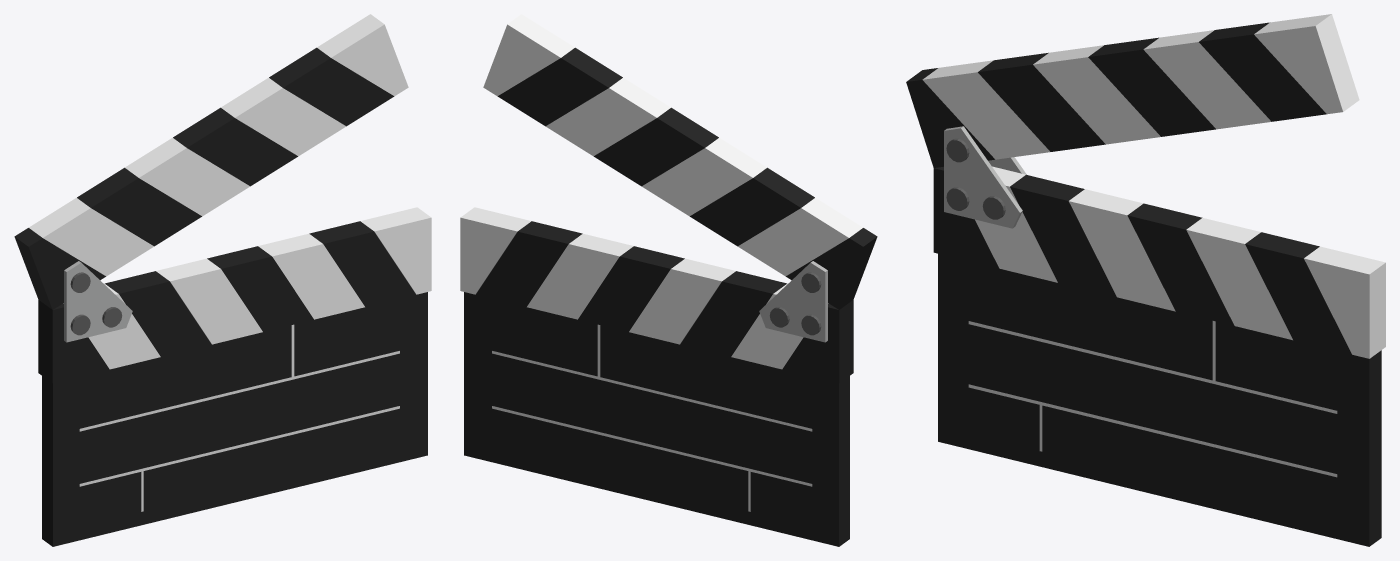
The model's file is clapper_board.fbx.
The picture shows the model from 3 angles, left to right: view 1: azimuth 30°, elevation 25°; view 2: azimuth 150°, elevation 25°; view 3: azimuth 330°, elevation 25°; orthographic projection. The views are drawn at different scales.
Parts seen in each view (by area): view 1: Cube.939; view 2: Cube.939; view 3: Cube.939.
Boxes of the visible parts, <box> form: Cube.939: <box>14,14,431,546</box>; Cube.939: <box>460,14,877,546</box>; Cube.939: <box>906,14,1385,546</box>.
Bounding box in the file's own units: 227 × 239 × 22.42.
Materials: 1 (1 with a texture image).
